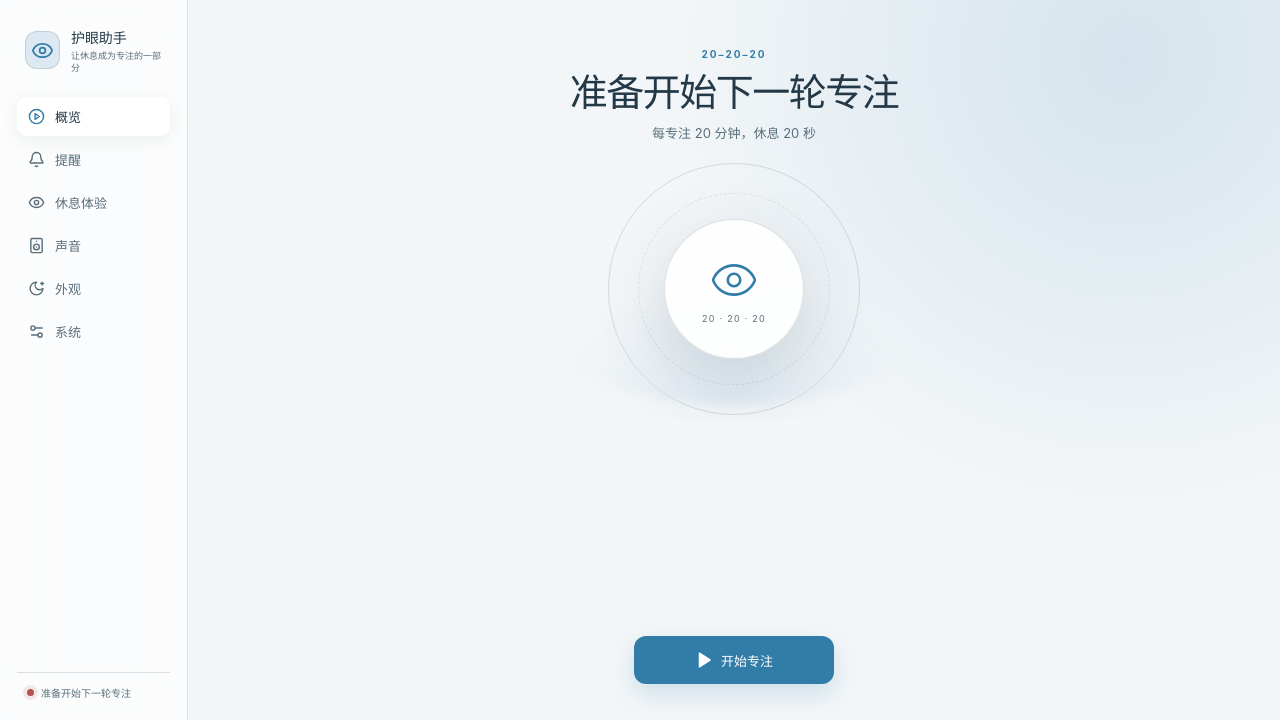
Test case: main application › starts a focus session from the overview
Click the button "开始专注": (734, 660) [634,636,834,684]
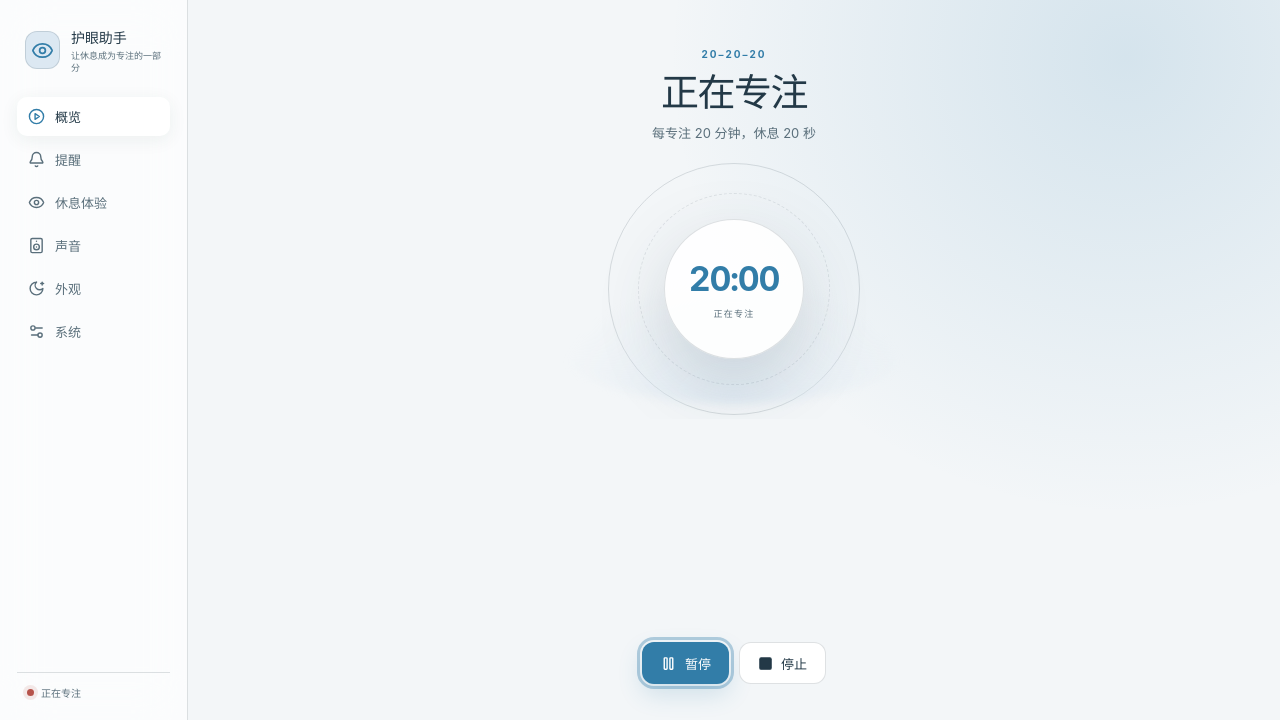
Expected: the element labelled "20:00 正在专注" is shown, [524,159,944,419]
Expected: the heading "正在专注" is shown, [661,69,807,115]
